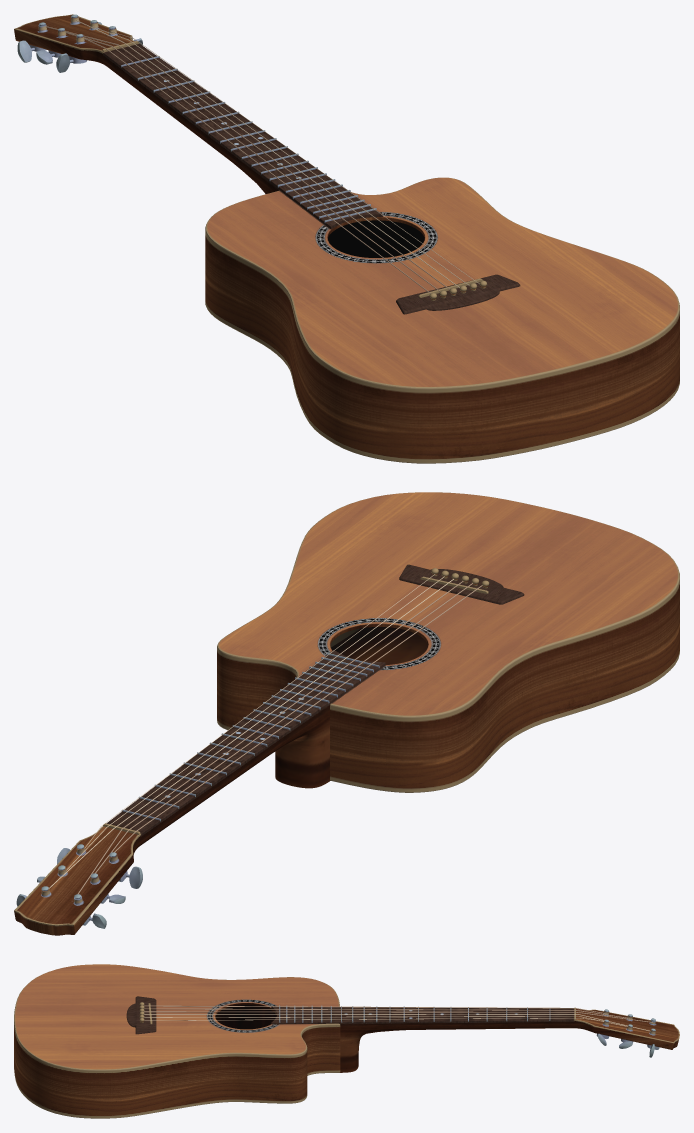
Rendered from Guitar.fbx.
The picture shows the model from 3 angles, top to bottom: view 1: azimuth 30°, elevation 25°; view 2: azimuth 150°, elevation 25°; view 3: azimuth 270°, elevation 25°; orthographic projection. The views are drawn at different scales.
Visible parts, largest first — view 1: Guitar; view 2: Guitar; view 3: Guitar.
Part boxes in pixels (left/top/right/bottom): Guitar: left=14, top=14, right=679, bottom=463; Guitar: left=14, top=492, right=679, bottom=935; Guitar: left=14, top=964, right=679, bottom=1118.
Bounding box in the file's own units: 0.3785 × 0.0922 × 1.01.
